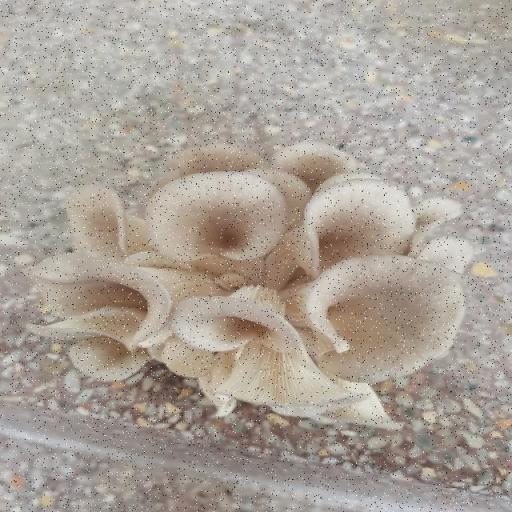White Oyster Mushroom: (8, 114, 480, 440)
